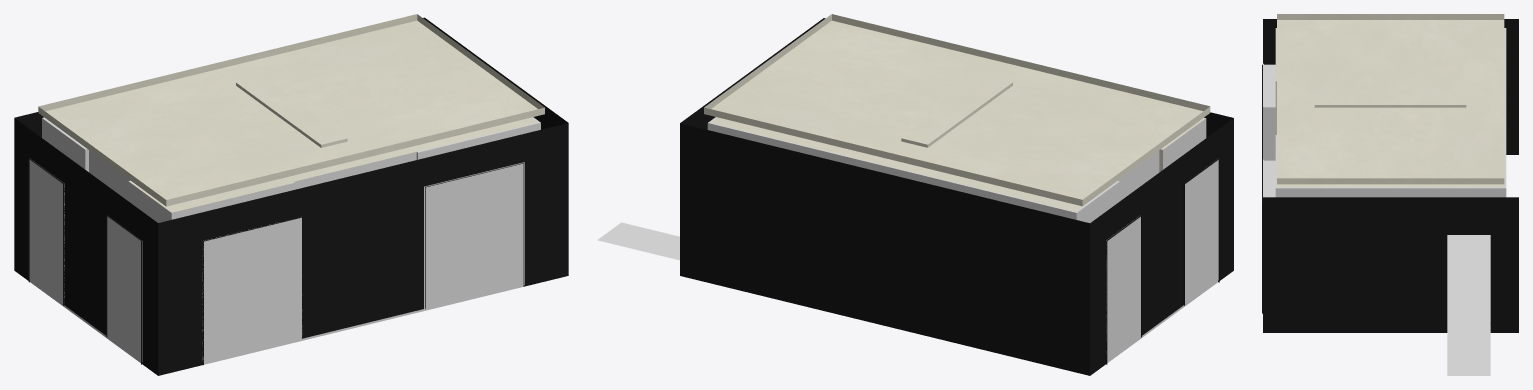
The model's file is sala_coworking.fbx.
3 renders of one model, left to right at view 1: azimuth 30°, elevation 25°; view 2: azimuth 150°, elevation 25°; view 3: azimuth 270°, elevation 25°, orthographic. The views are drawn at different scales.
Visible parts, largest first — view 1: Outside Walls, Ceiling, Windows, Inside Walls; view 2: Outside Walls, Ceiling, Inside Walls, Windows; view 3: Ceiling, Outside Walls, Inside Walls, Floor.
Boxes of the visible parts, bbox=[...] form: Outside Walls: bbox=[14, 17, 568, 375]; Ceiling: bbox=[38, 14, 544, 206]; Windows: bbox=[29, 160, 523, 362]; Inside Walls: bbox=[30, 117, 540, 364]; Outside Walls: bbox=[680, 18, 1233, 375]; Ceiling: bbox=[704, 14, 1210, 206]; Inside Walls: bbox=[597, 117, 1217, 362]; Windows: bbox=[1106, 160, 1218, 361]; Ceiling: bbox=[1277, 14, 1504, 184]; Outside Walls: bbox=[1262, 19, 1518, 332]; Inside Walls: bbox=[1263, 28, 1506, 375]; Floor: bbox=[1447, 235, 1490, 324].
Size of the model in its own units: 1399 by 435 by 686.
Materials: 8 (1 with a texture image).
